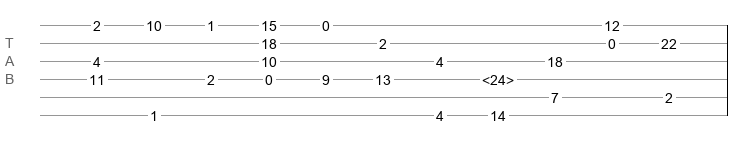0: (265, 72, 273, 82), (322, 18, 330, 28), (608, 36, 616, 46)
1: (150, 108, 158, 118), (207, 18, 215, 28)
10: (146, 18, 162, 28), (261, 54, 277, 64)
11: (89, 72, 105, 82)
12: (604, 18, 620, 28)
13: (375, 72, 391, 82)
14: (490, 108, 506, 118)
15: (261, 18, 277, 28)
18: (261, 36, 277, 46), (547, 54, 563, 64)
2: (93, 18, 101, 28), (207, 72, 215, 82), (379, 36, 387, 46), (665, 90, 673, 100)
22: (661, 36, 677, 46)
4: (93, 54, 101, 64), (436, 108, 444, 118), (436, 54, 444, 64)
7: (551, 90, 559, 100)
9: (322, 72, 330, 82)
harmonic: (482, 72, 514, 82)
